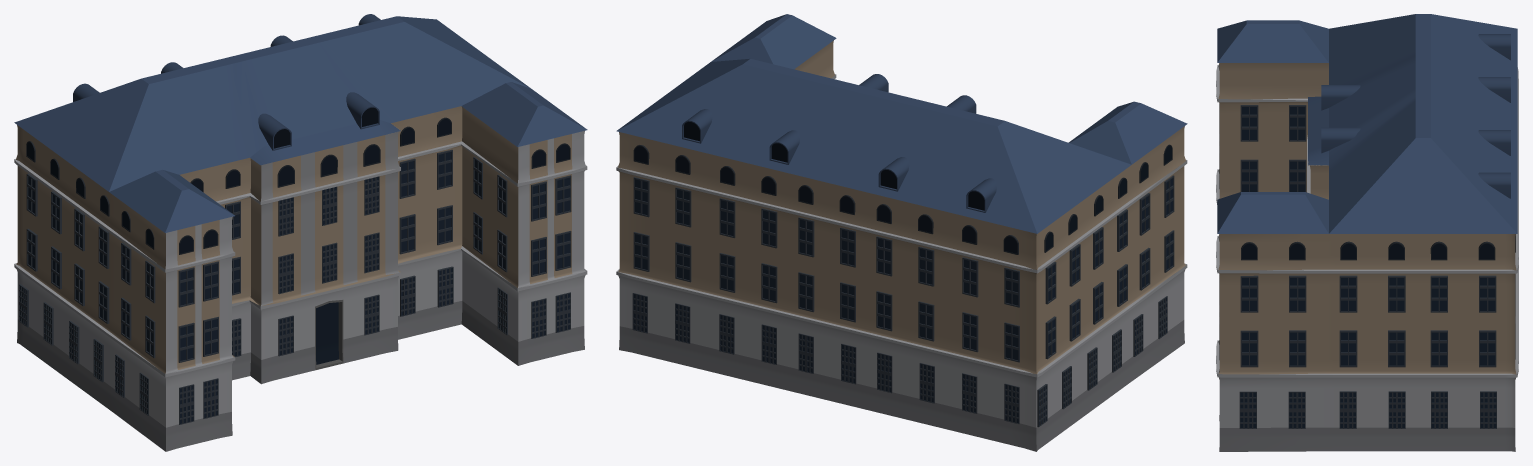
The model's file is Gamla Stans Advokatbyrå.fbx.
The picture shows the model from 3 angles, left to right: view 1: azimuth 30°, elevation 25°; view 2: azimuth 150°, elevation 25°; view 3: azimuth 270°, elevation 25°; orthographic projection.
Parts seen in each view (by area): view 1: pCube90; view 2: pCube90; view 3: pCube90.
Part boxes in pixels (<box>): pCube90: <box>14,14,587,451</box>; pCube90: <box>616,14,1187,451</box>; pCube90: <box>1216,14,1518,451</box>.
Bounding box in the file's own units: 418 × 259 × 259.
